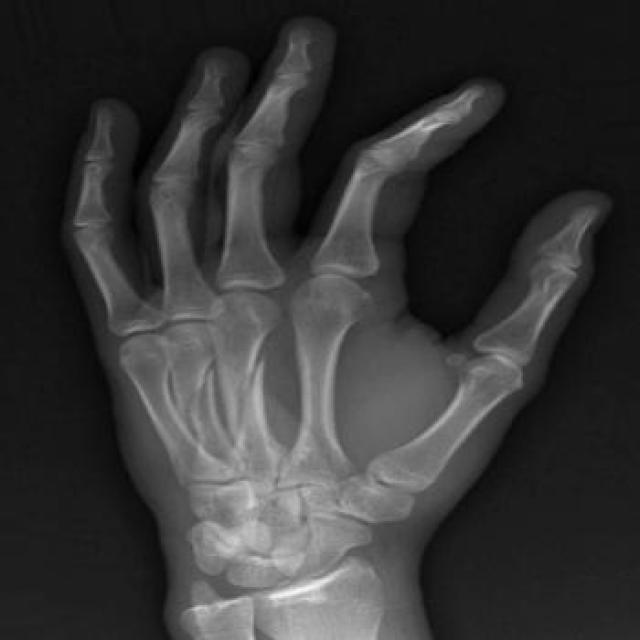Fracture: (230, 347, 280, 441), (179, 360, 225, 437)
